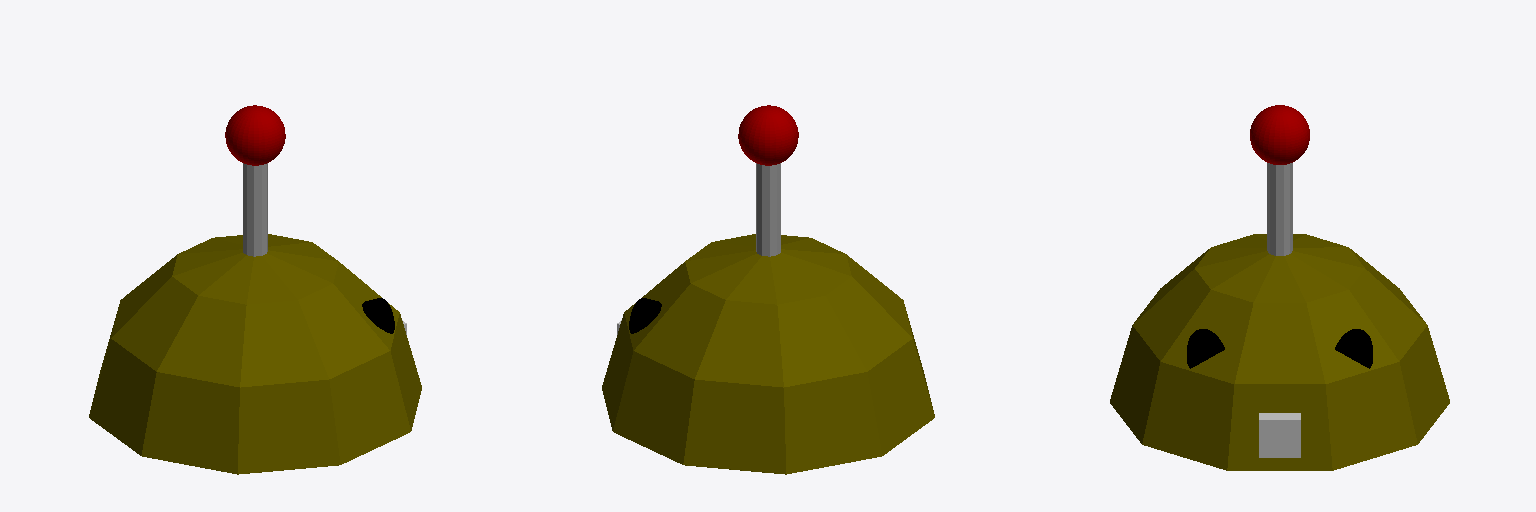
Rendered from lei.obj.
3 renders of one model, left to right at view 1: azimuth 30°, elevation 25°; view 2: azimuth 150°, elevation 25°; view 3: azimuth 270°, elevation 25°, orthographic.
Parts seen in each view (by area): view 1: 球体, 球体.001, 柱体_柱体.002, 柱体.001_柱体.003; view 2: 球体, 球体.001, 柱体_柱体.002, 柱体.002_柱体.004; view 3: 球体, 球体.001, 柱体_柱体.002, 立方体_立方体.001, 柱体.002_柱体.004, 柱体.001_柱体.003.
Part boxes in pixels (x1,y1,x2,y2): 球体: (89,234,421,474); 球体.001: (225,105,285,165); 柱体_柱体.002: (243,163,267,256); 柱体.001_柱体.003: (362,298,394,333); 球体: (602,234,934,474); 球体.001: (738,105,798,165); 柱体_柱体.002: (756,163,780,256); 柱体.002_柱体.004: (629,298,661,333); 球体: (1110,234,1449,470); 球体.001: (1250,105,1309,164); 柱体_柱体.002: (1267,163,1292,255); 立方体_立方体.001: (1259,413,1300,457); 柱体.002_柱体.004: (1335,329,1372,368); 柱体.001_柱体.003: (1187,329,1224,368).
Size of the model in its own units: 1.91 by 1.91 by 2.